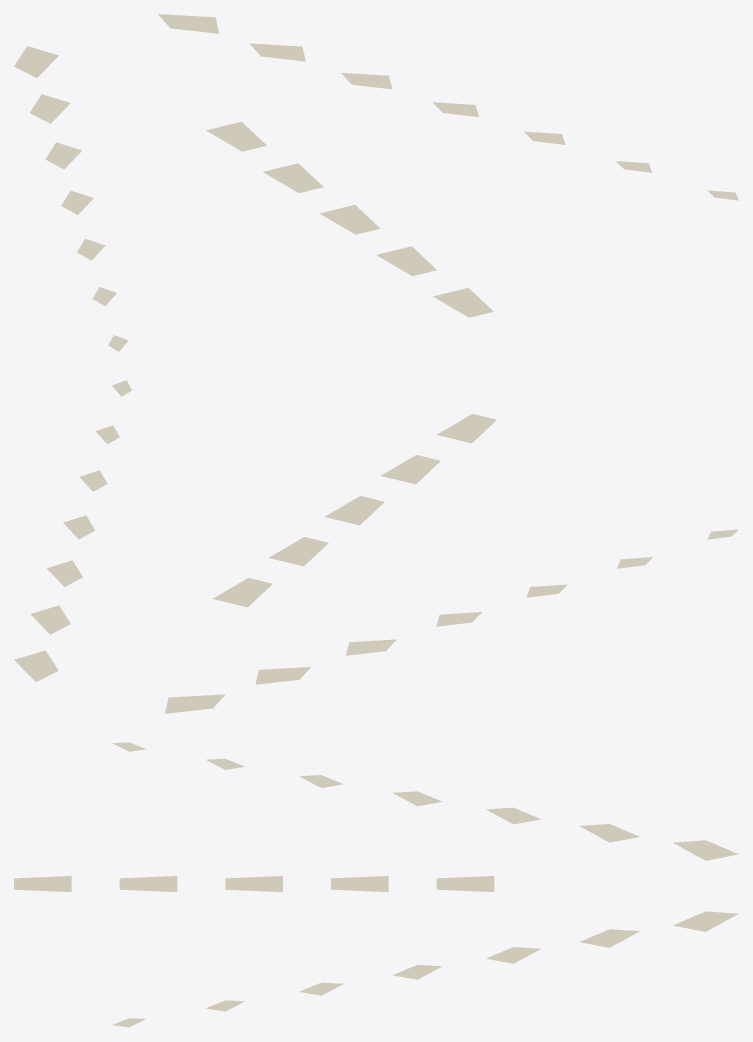
File: quay-wake.glb
3 views of the same model, one above another, from view 1: azimuth 30°, elevation 25°; view 2: azimuth 150°, elevation 25°; view 3: azimuth 270°, elevation 25° (orthographic). The views are drawn at different scales.
Parts seen in each view (by area): view 1: quay-wake; view 2: quay-wake; view 3: quay-wake.
Part boxes in pixels (x1,y1,x2,y2): quay-wake: (14,14,738,351); quay-wake: (14,380,738,713); quay-wake: (14,742,738,1027).
Bounding box in the file's own units: 7.02 × 0 × 7.55.
1 material, 1 textured.
